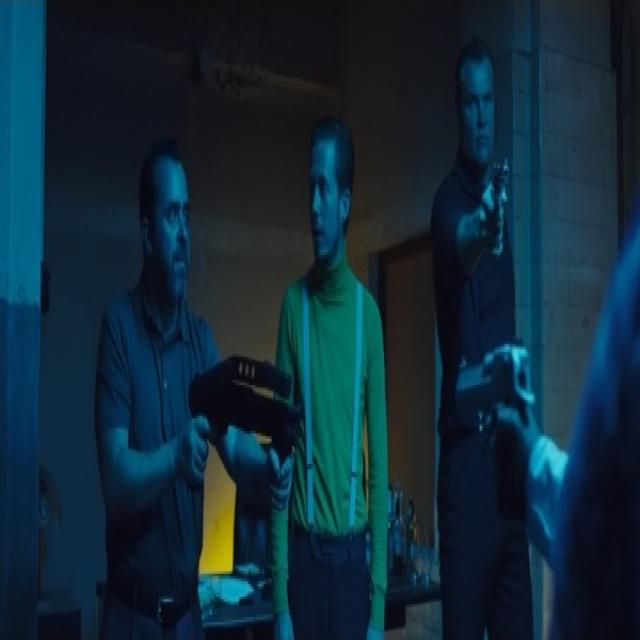rifle: (187, 359, 307, 455)
